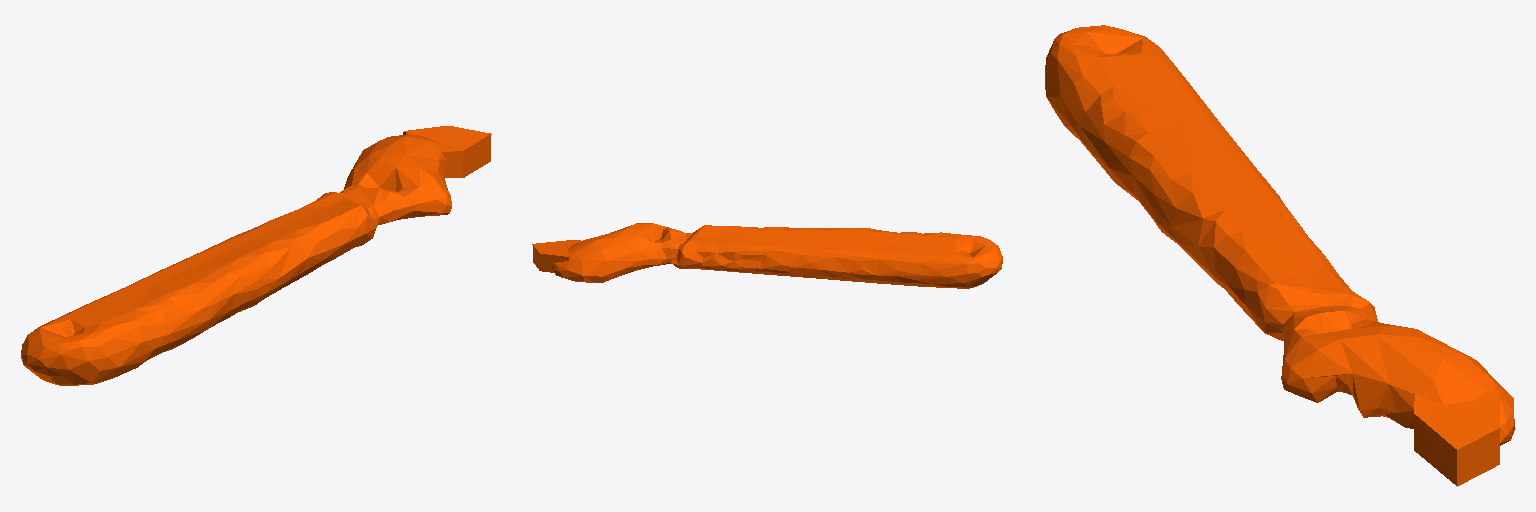
URDF robot description (wrench):
<?xml version="1.0" ?>
<robot name="wrench">
   <material name="obj_color">
      <color rgba="1.0 0.423529411765 0.0392156862745 1.0"/>
   </material>
   <link name="top">
      <inertial>
         <origin rpy="3.09351205246216e-05 0.00129547250466527 0.001315112280627431" xyz="-0.02564523002069616 -0.01146608517770169 0.00139386681558666"/>
         <mass value="0.25036829052547"/>
         <inertia ixx="0.0002409344492756286" ixy="-0.0004699365990904329" ixz="2.550826597067145e-05" iyy="0.001086561237466736" iyz="1.448732478910541e-05" izz="0.001314024219074957"/>
      </inertial>
      <visual>
         <origin rpy="0 0 0" xyz="0 0 0"/>
         <geometry>
            <mesh filename="top_watertight_tiny.stl" scale="1 1 1"/>
         </geometry>
         <material name="obj_color"/>
      </visual>
      <collision>
         <origin rpy="0 0 0" xyz="0 0 0"/>
         <geometry>
            <mesh filename="top_watertight_tiny.obj" scale="1 1 1"/>
         </geometry>
      </collision>
   </link>
   <link name="bottom">
      <inertial>
         <origin rpy="1.633333333199431e-08 1.633333333199431e-08 1.633333333362855e-08" xyz="0.3464080000000008 0.3464080000000008 0.3464080000000008"/>
         <mass value="0.0009800000000000017"/>
         <inertia ixx="1.633333333253906e-08" ixy="5.447480642029219e-19" ixz="5.447480642029219e-19" iyy="1.633333333253906e-08" iyz="5.447480642029219e-19" izz="1.633333333253906e-08"/>
      </inertial>
      <visual>
         <origin rpy="0 0 0" xyz="0 0 0"/>
         <geometry>
            <mesh filename="bottom_watertight_tiny.stl" scale="1 1 1"/>
         </geometry>
         <material name="obj_color"/>
      </visual>
   </link>
   <link name="world"/>
   <joint name="world_to_base" type="fixed">
      <origin xyz="0 0 0"/>
      <axis xyz="0 0 0"/>
      <parent link="world"/>
      <child link="bottom"/>
   </joint>
   <joint name="rotation" type="revolute">
      <origin xyz="0 0 0"/>
      <axis xyz="0 0 -1"/>
      <parent link="bottom"/>
      <child link="top"/>
      <dynamics damping="1.0" friction="1.0"/>
      <limit effort="0.1" velocity="0.1" lower="0" upper="0.001"/>
   </joint>
</robot>

--- Facts derived from the render (not from the file) ---
3 views of the same robot in one strip: view 1: azimuth 30°, elevation 25°; view 2: azimuth 150°, elevation 25°; view 3: azimuth 270°, elevation 25° (orthographic).
Model wrench with 3 links and 2 joints (1 revolute, 1 fixed), rooted at world, posed every joint at zero.
Visible links, largest first — view 1: top; view 2: top; view 3: top.
Boxes of the visible links, x1,y1,x2,y2 form: top: [21, 126, 491, 385]; top: [532, 223, 1002, 288]; top: [1045, 25, 1515, 486].
Size in the robot's own frame: 0.2466 by 0.1257 by 0.0261 metres.
1 mesh visuals loaded from 2 distinct referenced files (1 binary STL); not drawn: 1 (reference not matched to a file when rendering).
